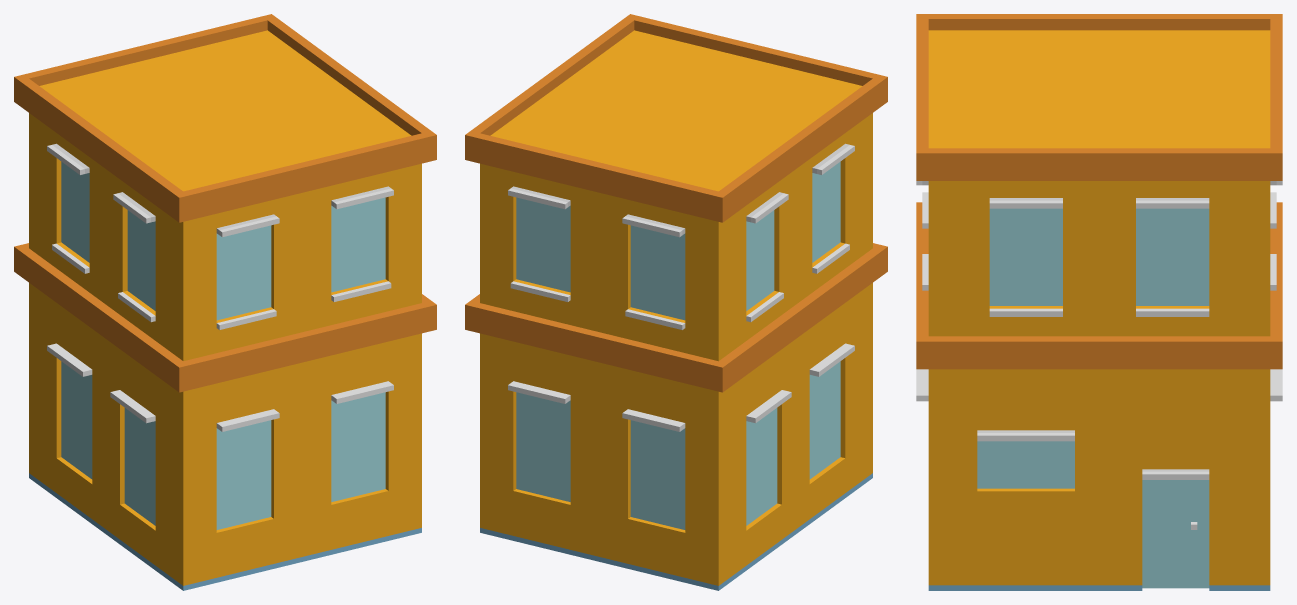
File: Edificio6.fbx
3 renders of one model, left to right at view 1: azimuth 30°, elevation 25°; view 2: azimuth 150°, elevation 25°; view 3: azimuth 270°, elevation 25°, orthographic. The views are drawn at different scales.
Parts seen in each view (by area): view 1: Untitled; view 2: Untitled; view 3: Untitled.
Boxes of the visible parts, bbox=[...] form: Untitled: bbox=[14, 14, 436, 590]; Untitled: bbox=[465, 14, 887, 590]; Untitled: bbox=[916, 14, 1282, 590].
Size of the model in its own units: 540 by 800 by 600.
Materials: 1 (1 with a texture image).
